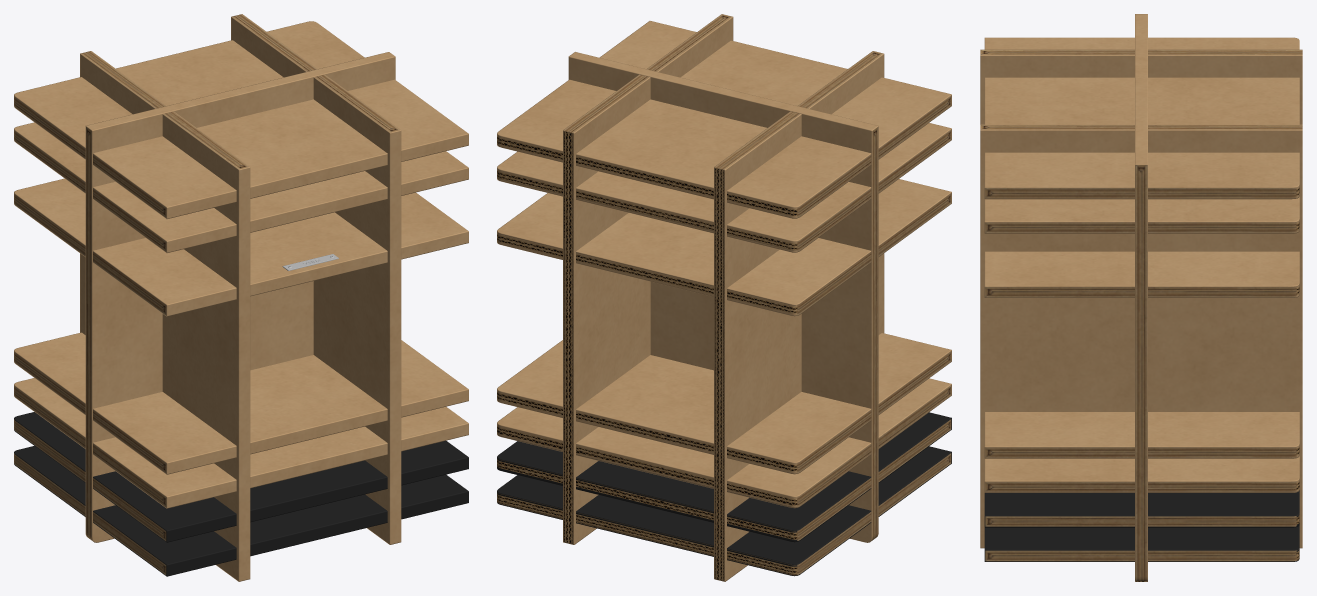
Rendered from Black 3039207.glb.
The picture shows the model from 3 angles, left to right: view 1: azimuth 30°, elevation 25°; view 2: azimuth 150°, elevation 25°; view 3: azimuth 270°, elevation 25°; orthographic projection.
Parts seen in each view (by area): view 1: Black 3039207; view 2: Black 3039207; view 3: Black 3039207.
Part boxes in pixels (x1,y1,x2,y2): Black 3039207: (14,14,468,581); Black 3039207: (497,14,951,581); Black 3039207: (980,14,1302,581).
Bounding box in the file's own units: 0.43 × 0.56 × 0.39.
1 material, 1 textured.
